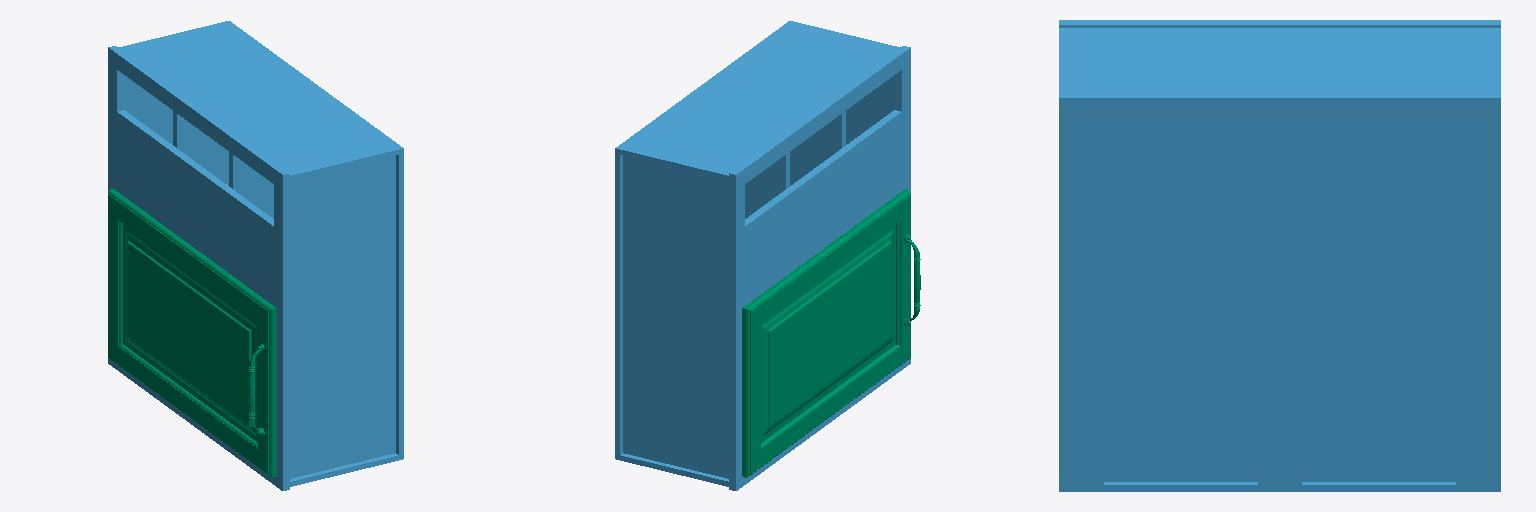
The robot description file, URDF, robot "partnet_147eb60e7a6cadde4da5feafe6f1c8fc":
<?xml version='1.0' encoding='us-ascii'?>
<robot name="partnet_147eb60e7a6cadde4da5feafe6f1c8fc">
	<link name="base" />
	<link name="link_0">
		<visual name="vertical_side_panel-11">
			<origin xyz="0.0 0.0 0.0" />
			<geometry>
				<mesh filename="textured_objs/original-2.obj" scale="0.7 0.7 0.7" />
			</geometry>
		</visual>
		<visual name="vertical_side_panel-11">
			<origin xyz="0.0 0.0 0.0" />
			<geometry>
				<mesh filename="textured_objs/original-3.obj" scale="0.7 0.7 0.7" />
			</geometry>
		</visual>
		<visual name="vertical_side_panel-12">
			<origin xyz="0.0 0.0 0.0" />
			<geometry>
				<mesh filename="textured_objs/original-15.obj" scale="0.7 0.7 0.7" />
			</geometry>
		</visual>
		<visual name="vertical_side_panel-12">
			<origin xyz="0.0 0.0 0.0" />
			<geometry>
				<mesh filename="textured_objs/original-14.obj" scale="0.7 0.7 0.7" />
			</geometry>
		</visual>
		<visual name="vertical_front_panel-13">
			<origin xyz="0.0 0.0 0.0" />
			<geometry>
				<mesh filename="textured_objs/original-18.obj" scale="0.7 0.7 0.7" />
			</geometry>
		</visual>
		<visual name="vertical_front_panel-13">
			<origin xyz="0.0 0.0 0.0" />
			<geometry>
				<mesh filename="textured_objs/original-16.obj" scale="0.7 0.7 0.7" />
			</geometry>
		</visual>
		<visual name="vertical_front_panel-13">
			<origin xyz="0.0 0.0 0.0" />
			<geometry>
				<mesh filename="textured_objs/original-11.obj" scale="0.7 0.7 0.7" />
			</geometry>
		</visual>
		<visual name="vertical_front_panel-13">
			<origin xyz="0.0 0.0 0.0" />
			<geometry>
				<mesh filename="textured_objs/original-5.obj" scale="0.7 0.7 0.7" />
			</geometry>
		</visual>
		<visual name="vertical_front_panel-13">
			<origin xyz="0.0 0.0 0.0" />
			<geometry>
				<mesh filename="textured_objs/original-12.obj" scale="0.7 0.7 0.7" />
			</geometry>
		</visual>
		<visual name="vertical_divider_panel-14">
			<origin xyz="0.0 0.0 0.0" />
			<geometry>
				<mesh filename="textured_objs/original-21.obj" scale="0.7 0.7 0.7" />
			</geometry>
		</visual>
		<visual name="vertical_divider_panel-15">
			<origin xyz="0.0 0.0 0.0" />
			<geometry>
				<mesh filename="textured_objs/original-19.obj" scale="0.7 0.7 0.7" />
			</geometry>
		</visual>
		<visual name="back_panel-16">
			<origin xyz="0.0 0.0 0.0" />
			<geometry>
				<mesh filename="textured_objs/original-7.obj" scale="0.7 0.7 0.7" />
			</geometry>
		</visual>
		<visual name="back_panel-16">
			<origin xyz="0.0 0.0 0.0" />
			<geometry>
				<mesh filename="textured_objs/original-8.obj" scale="0.7 0.7 0.7" />
			</geometry>
		</visual>
		<visual name="bottom_panel-17">
			<origin xyz="0.0 0.0 0.0" />
			<geometry>
				<mesh filename="textured_objs/original-9.obj" scale="0.7 0.7 0.7" />
			</geometry>
		</visual>
		<visual name="top_panel-18">
			<origin xyz="0.0 0.0 0.0" />
			<geometry>
				<mesh filename="textured_objs/original-10.obj" scale="0.7 0.7 0.7" />
			</geometry>
		</visual>
		<visual name="frame_vertical_bar-19">
			<origin xyz="0.0 0.0 0.0" />
			<geometry>
				<mesh filename="textured_objs/original-4.obj" scale="0.7 0.7 0.7" />
			</geometry>
		</visual>
		<visual name="frame_vertical_bar-20">
			<origin xyz="0.0 0.0 0.0" />
			<geometry>
				<mesh filename="textured_objs/original-20.obj" scale="0.7 0.7 0.7" />
			</geometry>
		</visual>
		<visual name="frame_vertical_bar-21">
			<origin xyz="0.0 0.0 0.0" />
			<geometry>
				<mesh filename="textured_objs/original-17.obj" scale="0.7 0.7 0.7" />
			</geometry>
		</visual>
		<visual name="other_leaf-23">
			<origin xyz="0.0 0.0 0.0" />
			<geometry>
				<mesh filename="textured_objs/original-42.obj" scale="0.7 0.7 0.7" />
			</geometry>
		</visual>
		<collision>
			<origin xyz="0.0 0.0 0.0" />
			<geometry>
				<mesh filename="textured_objs/original-2.obj" scale="0.7 0.7 0.7" />
			</geometry>
		</collision>
		<collision>
			<origin xyz="0.0 0.0 0.0" />
			<geometry>
				<mesh filename="textured_objs/original-3.obj" scale="0.7 0.7 0.7" />
			</geometry>
		</collision>
		<collision>
			<origin xyz="0.0 0.0 0.0" />
			<geometry>
				<mesh filename="textured_objs/original-15.obj" scale="0.7 0.7 0.7" />
			</geometry>
		</collision>
		<collision>
			<origin xyz="0.0 0.0 0.0" />
			<geometry>
				<mesh filename="textured_objs/original-14.obj" scale="0.7 0.7 0.7" />
			</geometry>
		</collision>
		<collision>
			<origin xyz="0.0 0.0 0.0" />
			<geometry>
				<mesh filename="textured_objs/original-18.obj" scale="0.7 0.7 0.7" />
			</geometry>
		</collision>
		<collision>
			<origin xyz="0.0 0.0 0.0" />
			<geometry>
				<mesh filename="textured_objs/original-16.obj" scale="0.7 0.7 0.7" />
			</geometry>
		</collision>
		<collision>
			<origin xyz="0.0 0.0 0.0" />
			<geometry>
				<mesh filename="textured_objs/original-11.obj" scale="0.7 0.7 0.7" />
			</geometry>
		</collision>
		<collision>
			<origin xyz="0.0 0.0 0.0" />
			<geometry>
				<mesh filename="textured_objs/original-5.obj" scale="0.7 0.7 0.7" />
			</geometry>
		</collision>
		<collision>
			<origin xyz="0.0 0.0 0.0" />
			<geometry>
				<mesh filename="textured_objs/original-12.obj" scale="0.7 0.7 0.7" />
			</geometry>
		</collision>
		<collision>
			<origin xyz="0.0 0.0 0.0" />
			<geometry>
				<mesh filename="textured_objs/original-21.obj" scale="0.7 0.7 0.7" />
			</geometry>
		</collision>
		<collision>
			<origin xyz="0.0 0.0 0.0" />
			<geometry>
				<mesh filename="textured_objs/original-19.obj" scale="0.7 0.7 0.7" />
			</geometry>
		</collision>
		<collision>
			<origin xyz="0.0 0.0 0.0" />
			<geometry>
				<mesh filename="textured_objs/original-7.obj" scale="0.7 0.7 0.7" />
			</geometry>
		</collision>
		<collision>
			<origin xyz="0.0 0.0 0.0" />
			<geometry>
				<mesh filename="textured_objs/original-8.obj" scale="0.7 0.7 0.7" />
			</geometry>
		</collision>
		<collision>
			<origin xyz="0.0 0.0 0.0" />
			<geometry>
				<mesh filename="textured_objs/original-9.obj" scale="0.7 0.7 0.7" />
			</geometry>
		</collision>
		<collision>
			<origin xyz="0.0 0.0 0.0" />
			<geometry>
				<mesh filename="textured_objs/original-10.obj" scale="0.7 0.7 0.7" />
			</geometry>
		</collision>
		<collision>
			<origin xyz="0.0 0.0 0.0" />
			<geometry>
				<mesh filename="textured_objs/original-4.obj" scale="0.7 0.7 0.7" />
			</geometry>
		</collision>
		<collision>
			<origin xyz="0.0 0.0 0.0" />
			<geometry>
				<mesh filename="textured_objs/original-20.obj" scale="0.7 0.7 0.7" />
			</geometry>
		</collision>
		<collision>
			<origin xyz="0.0 0.0 0.0" />
			<geometry>
				<mesh filename="textured_objs/original-17.obj" scale="0.7 0.7 0.7" />
			</geometry>
		</collision>
		<collision>
			<origin xyz="0.0 0.0 0.0" />
			<geometry>
				<mesh filename="textured_objs/original-42.obj" scale="0.7 0.7 0.7" />
			</geometry>
		</collision>
	</link>
	<joint name="joint_0" type="fixed">
		<origin rpy="1.570796326794897 0 -1.570796326794897" xyz="0.0 0.0 0.0" />
		<child link="link_0" />
		<parent link="base" />
	</joint>
	<link name="link_1">
		<visual name="handle-5">
			<origin xyz="0.44245608949295856 0.4468142912629898 -0.2060082441193627" />
			<geometry>
				<mesh filename="textured_objs/original-41.obj" scale="0.7 0.7 0.7" />
			</geometry>
		</visual>
		<visual name="handle-5">
			<origin xyz="0.44245608949295856 0.4468142912629898 -0.2060082441193627" />
			<geometry>
				<mesh filename="textured_objs/original-37.obj" scale="0.7 0.7 0.7" />
			</geometry>
		</visual>
		<visual name="handle-5">
			<origin xyz="0.44245608949295856 0.4468142912629898 -0.2060082441193627" />
			<geometry>
				<mesh filename="textured_objs/original-40.obj" scale="0.7 0.7 0.7" />
			</geometry>
		</visual>
		<visual name="cabinet_door_surface-6">
			<origin xyz="0.44245608949295856 0.4468142912629898 -0.2060082441193627" />
			<geometry>
				<mesh filename="textured_objs/original-30.obj" scale="0.7 0.7 0.7" />
			</geometry>
		</visual>
		<visual name="cabinet_door_surface-6">
			<origin xyz="0.44245608949295856 0.4468142912629898 -0.2060082441193627" />
			<geometry>
				<mesh filename="textured_objs/original-33.obj" scale="0.7 0.7 0.7" />
			</geometry>
		</visual>
		<visual name="cabinet_door_surface-6">
			<origin xyz="0.44245608949295856 0.4468142912629898 -0.2060082441193627" />
			<geometry>
				<mesh filename="textured_objs/original-24.obj" scale="0.7 0.7 0.7" />
			</geometry>
		</visual>
		<visual name="cabinet_door_surface-6">
			<origin xyz="0.44245608949295856 0.4468142912629898 -0.2060082441193627" />
			<geometry>
				<mesh filename="textured_objs/original-27.obj" scale="0.7 0.7 0.7" />
			</geometry>
		</visual>
		<visual name="cabinet_door_surface-6">
			<origin xyz="0.44245608949295856 0.4468142912629898 -0.2060082441193627" />
			<geometry>
				<mesh filename="textured_objs/original-29.obj" scale="0.7 0.7 0.7" />
			</geometry>
		</visual>
		<visual name="cabinet_door_surface-6">
			<origin xyz="0.44245608949295856 0.4468142912629898 -0.2060082441193627" />
			<geometry>
				<mesh filename="textured_objs/original-25.obj" scale="0.7 0.7 0.7" />
			</geometry>
		</visual>
		<visual name="cabinet_door_surface-6">
			<origin xyz="0.44245608949295856 0.4468142912629898 -0.2060082441193627" />
			<geometry>
				<mesh filename="textured_objs/original-28.obj" scale="0.7 0.7 0.7" />
			</geometry>
		</visual>
		<visual name="cabinet_door_surface-6">
			<origin xyz="0.44245608949295856 0.4468142912629898 -0.2060082441193627" />
			<geometry>
				<mesh filename="textured_objs/original-26.obj" scale="0.7 0.7 0.7" />
			</geometry>
		</visual>
		<visual name="cabinet_door_surface-6">
			<origin xyz="0.44245608949295856 0.4468142912629898 -0.2060082441193627" />
			<geometry>
				<mesh filename="textured_objs/original-23.obj" scale="0.7 0.7 0.7" />
			</geometry>
		</visual>
		<visual name="cabinet_door_surface-6">
			<origin xyz="0.44245608949295856 0.4468142912629898 -0.2060082441193627" />
			<geometry>
				<mesh filename="textured_objs/original-32.obj" scale="0.7 0.7 0.7" />
			</geometry>
		</visual>
		<visual name="other_leaf-10">
			<origin xyz="0.44245608949295856 0.4468142912629898 -0.2060082441193627" />
			<geometry>
				<mesh filename="textured_objs/original-39.obj" scale="0.7 0.7 0.7" />
			</geometry>
		</visual>
		<visual name="other_leaf-9">
			<origin xyz="0.44245608949295856 0.4468142912629898 -0.2060082441193627" />
			<geometry>
				<mesh filename="textured_objs/original-36.obj" scale="0.7 0.7 0.7" />
			</geometry>
		</visual>
		<collision>
			<origin xyz="0.44245608949295856 0.4468142912629898 -0.2060082441193627" />
			<geometry>
				<mesh filename="textured_objs/original-41.obj" scale="0.7 0.7 0.7" />
			</geometry>
		</collision>
		<collision>
			<origin xyz="0.44245608949295856 0.4468142912629898 -0.2060082441193627" />
			<geometry>
				<mesh filename="textured_objs/original-37.obj" scale="0.7 0.7 0.7" />
			</geometry>
		</collision>
		<collision>
			<origin xyz="0.44245608949295856 0.4468142912629898 -0.2060082441193627" />
			<geometry>
				<mesh filename="textured_objs/original-40.obj" scale="0.7 0.7 0.7" />
			</geometry>
		</collision>
		<collision>
			<origin xyz="0.44245608949295856 0.4468142912629898 -0.2060082441193627" />
			<geometry>
				<mesh filename="textured_objs/original-30.obj" scale="0.7 0.7 0.7" />
			</geometry>
		</collision>
		<collision>
			<origin xyz="0.44245608949295856 0.4468142912629898 -0.2060082441193627" />
			<geometry>
				<mesh filename="textured_objs/original-33.obj" scale="0.7 0.7 0.7" />
			</geometry>
		</collision>
		<collision>
			<origin xyz="0.44245608949295856 0.4468142912629898 -0.2060082441193627" />
			<geometry>
				<mesh filename="textured_objs/original-24.obj" scale="0.7 0.7 0.7" />
			</geometry>
		</collision>
		<collision>
			<origin xyz="0.44245608949295856 0.4468142912629898 -0.2060082441193627" />
			<geometry>
				<mesh filename="textured_objs/original-27.obj" scale="0.7 0.7 0.7" />
			</geometry>
		</collision>
		<collision>
			<origin xyz="0.44245608949295856 0.4468142912629898 -0.2060082441193627" />
			<geometry>
				<mesh filename="textured_objs/original-29.obj" scale="0.7 0.7 0.7" />
			</geometry>
		</collision>
		<collision>
			<origin xyz="0.44245608949295856 0.4468142912629898 -0.2060082441193627" />
			<geometry>
				<mesh filename="textured_objs/original-25.obj" scale="0.7 0.7 0.7" />
			</geometry>
		</collision>
		<collision>
			<origin xyz="0.44245608949295856 0.4468142912629898 -0.2060082441193627" />
			<geometry>
				<mesh filename="textured_objs/original-28.obj" scale="0.7 0.7 0.7" />
			</geometry>
		</collision>
		<collision>
			<origin xyz="0.44245608949295856 0.4468142912629898 -0.2060082441193627" />
			<geometry>
				<mesh filename="textured_objs/original-26.obj" scale="0.7 0.7 0.7" />
			</geometry>
		</collision>
		<collision>
			<origin xyz="0.44245608949295856 0.4468142912629898 -0.2060082441193627" />
			<geometry>
				<mesh filename="textured_objs/original-23.obj" scale="0.7 0.7 0.7" />
			</geometry>
		</collision>
		<collision>
			<origin xyz="0.44245608949295856 0.4468142912629898 -0.2060082441193627" />
			<geometry>
				<mesh filename="textured_objs/original-32.obj" scale="0.7 0.7 0.7" />
			</geometry>
		</collision>
		<collision>
			<origin xyz="0.44245608949295856 0.4468142912629898 -0.2060082441193627" />
			<geometry>
				<mesh filename="textured_objs/original-39.obj" scale="0.7 0.7 0.7" />
			</geometry>
		</collision>
		<collision>
			<origin xyz="0.44245608949295856 0.4468142912629898 -0.2060082441193627" />
			<geometry>
				<mesh filename="textured_objs/original-36.obj" scale="0.7 0.7 0.7" />
			</geometry>
		</collision>
	</link>
	<joint name="joint_1" type="revolute">
		<origin xyz="-0.44245608949295856 -0.4468142912629898 0.2060082441193627" />
		<axis xyz="0 -0.9999997302451396 -0.0007345132049129426" />
		<child link="link_1" />
		<parent link="link_0" />
		<limit lower="0.0" upper="1.5707963267948966" />
	</joint>
</robot>

--- Render facts (derived) ---
3 views of the same robot in one strip: view 1: azimuth 30°, elevation 25°; view 2: azimuth 150°, elevation 25°; view 3: azimuth 270°, elevation 25° (orthographic).
Model partnet_147eb60e7a6cadde4da5feafe6f1c8fc with 3 links and 2 joints (1 revolute, 1 fixed), rooted at base, posed every joint at zero.
Links seen in each view (by area): view 1: link_0, link_1; view 2: link_0, link_1; view 3: link_0.
Link boxes in pixels (x1=…): link_0: x1=108, y1=21, x2=403, y2=490; link_1: x1=108, y1=189, x2=276, y2=477; link_0: x1=615, y1=21, x2=910, y2=490; link_1: x1=742, y1=189, x2=920, y2=477; link_0: x1=1059, y1=20, x2=1500, y2=491.
Size in the robot's own frame: 0.4643 by 0.984 by 0.984 metres.
34 mesh visuals loaded from 34 distinct referenced files (34 OBJ).